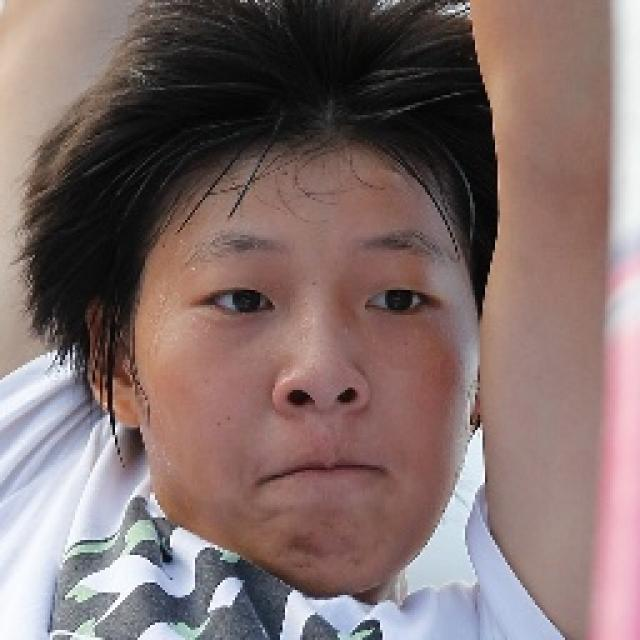earlobe: (108, 382, 144, 428)
eye: (359, 277, 441, 321), (199, 281, 279, 325)
nose: (276, 391, 371, 444)
wholeear: (82, 292, 143, 428)
